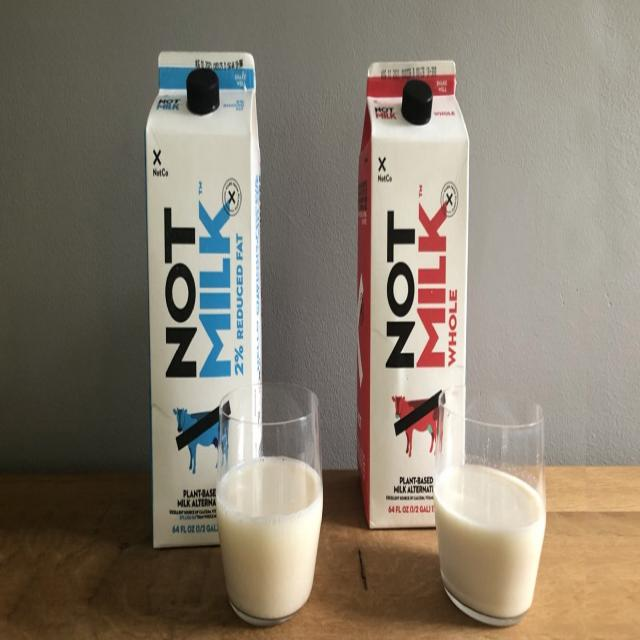Milk carton/jug: (144, 45, 264, 561), (353, 58, 469, 535), (218, 452, 324, 622), (433, 460, 544, 618)
